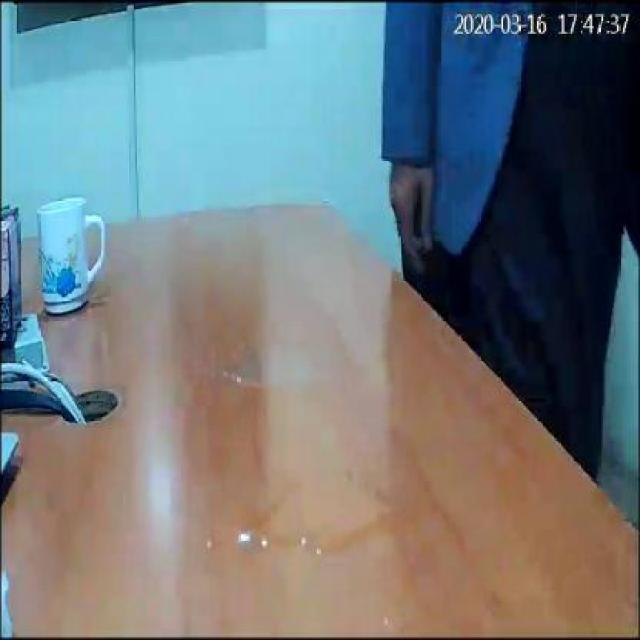spill: (236, 458, 418, 556), (228, 347, 328, 387)
